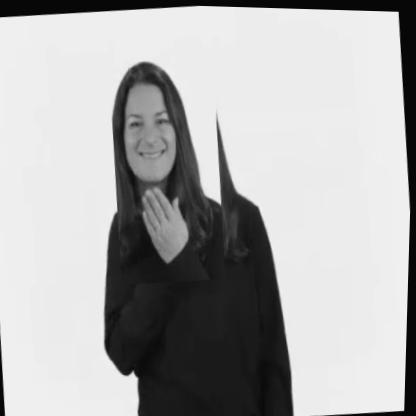ThankYou: (101, 30, 233, 286)
